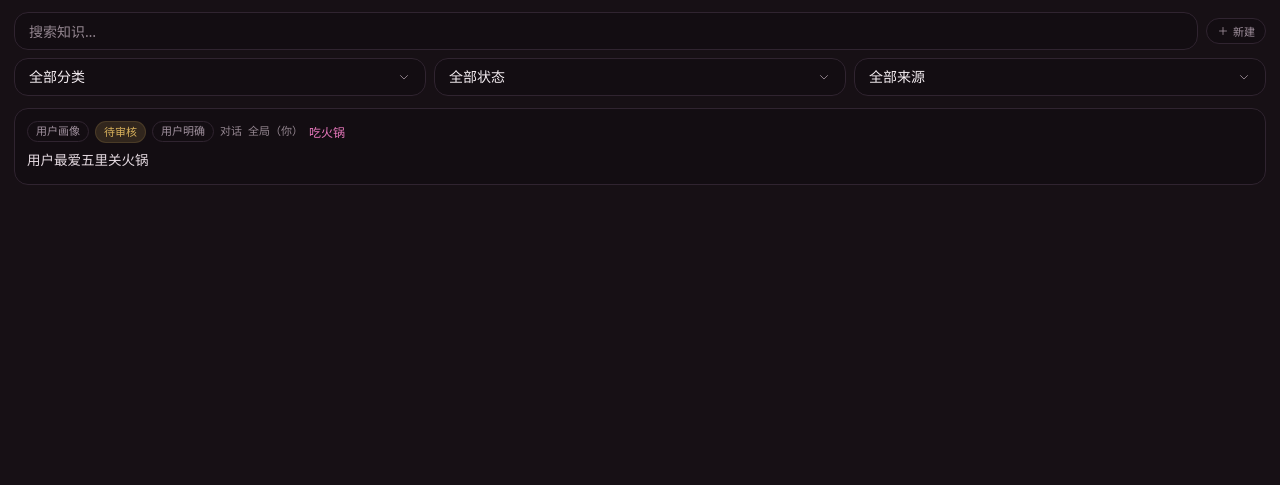
KnowledgePanel 列表 → 详情 → 返回 › 列表渲染分类/状态徽章，点条目打开详情
Expected: the element showing "新建 全部分类 全部状态 全部来源 用户画像 待审核 用户明确 对话 全局（你） 吃火锅 用户最爱五里关火锅" is shown, x1=14 y1=12 x2=1266 y2=184
Expected: the text with class "k-cat" reads "用户画像", x1=36 y1=124 x2=80 y2=138
What coordinates should you click on to do the following:
click the button "用户画像 待审核 用户明确 对话 全局（你） 吃火锅 用户最爱五里关火锅"
I would click on:
 (58, 132)
Its box is x1=14 y1=108 x2=1266 y2=184.
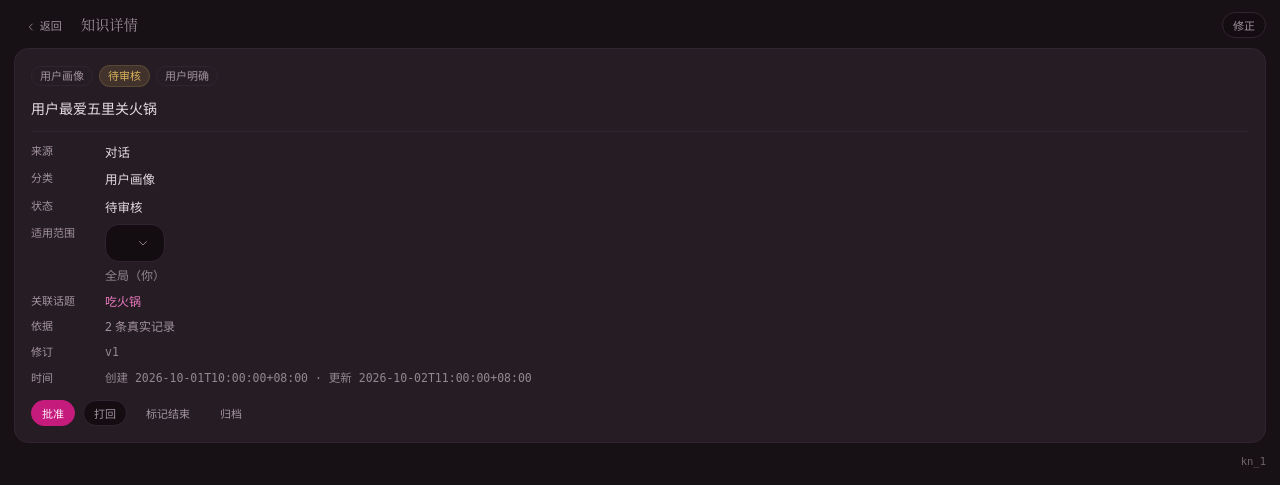
Now the element that starts with "知识详情" shows "用户最爱五里关火锅", box x1=31 y1=99 x2=157 y2=118
